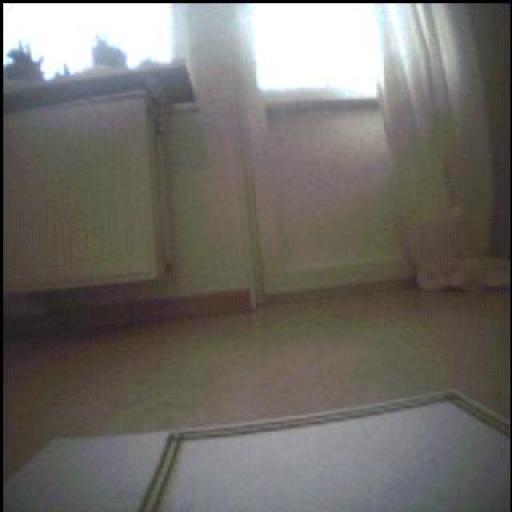Pad: (4, 391, 512, 512)
